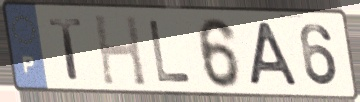6: (195, 15, 245, 90), (297, 21, 340, 88)
A: (248, 19, 302, 88)
H: (91, 11, 149, 88)
L: (146, 18, 195, 85)
T: (46, 16, 86, 82)
